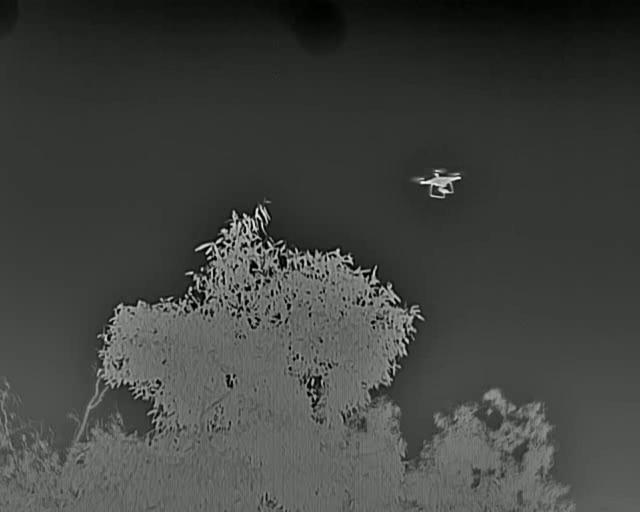DJI-Phantom: (406, 168, 469, 199)
